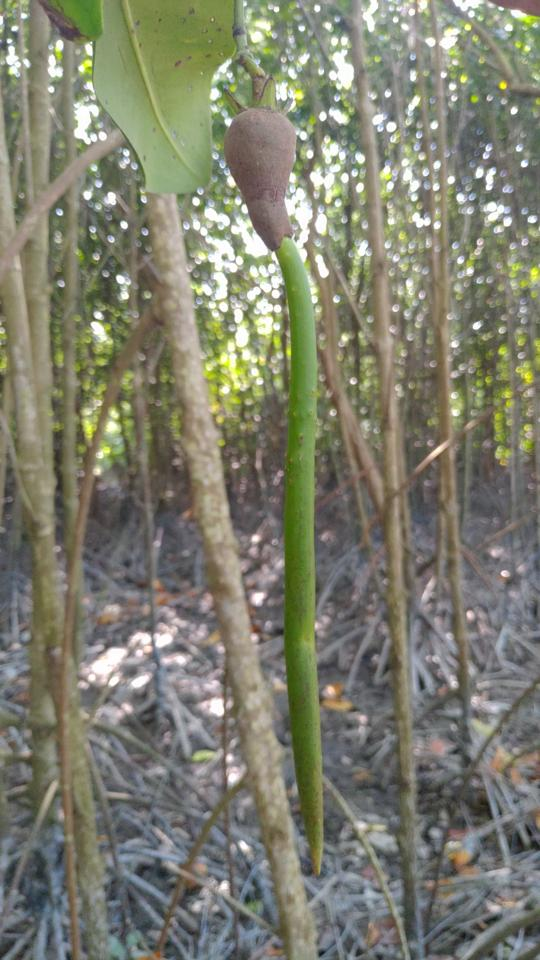mentah: (213, 79, 345, 889)
